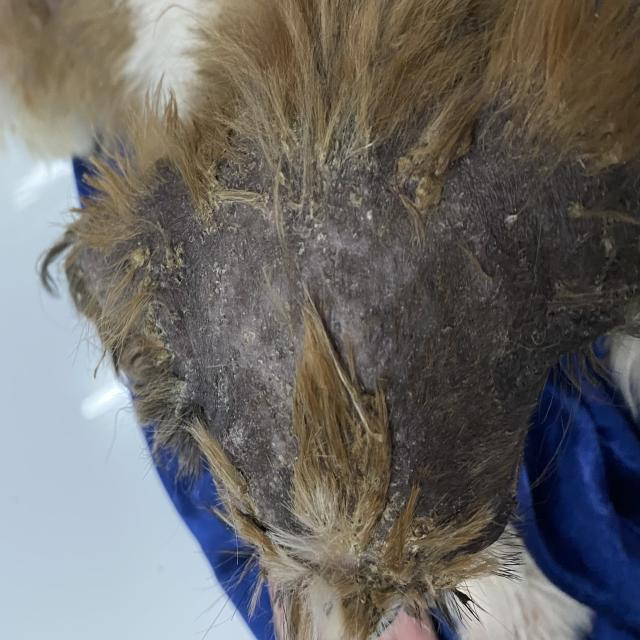demodicosis: (90, 113, 347, 448), (359, 154, 531, 485), (276, 484, 473, 600), (541, 136, 637, 348)
